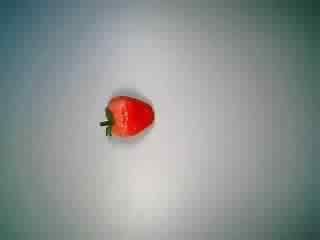strawberry: (97, 81, 163, 147)
